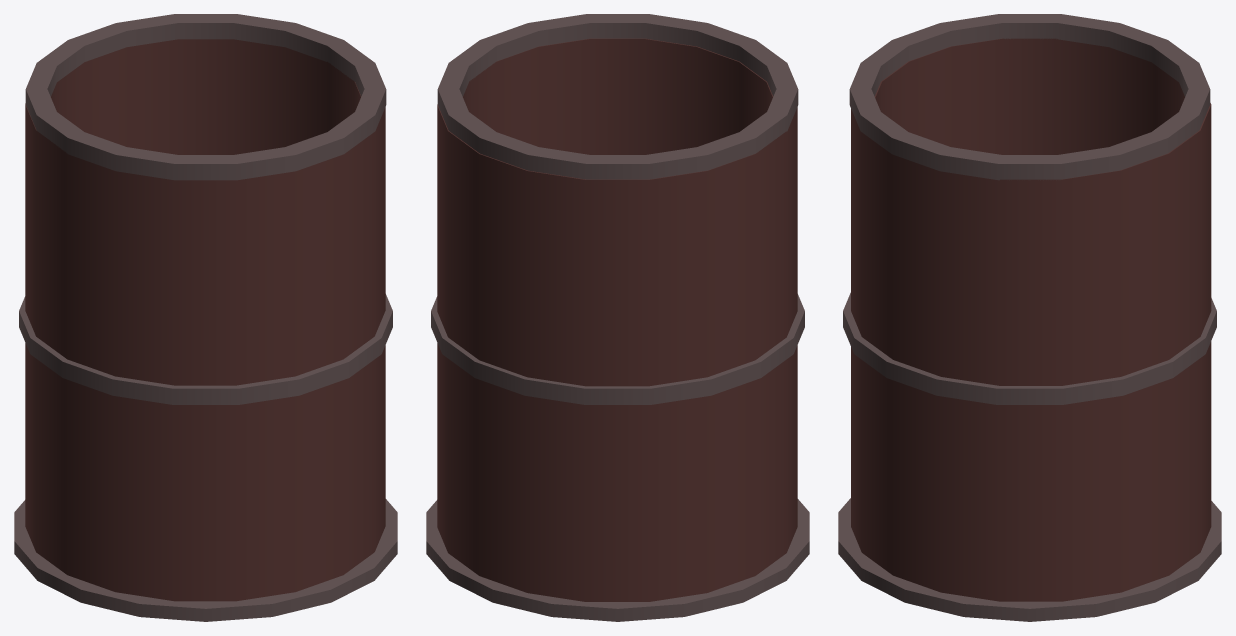
The model's file is FactoryBarrelBigger.FBX.
The picture shows the model from 3 angles, left to right: view 1: azimuth 30°, elevation 25°; view 2: azimuth 150°, elevation 25°; view 3: azimuth 270°, elevation 25°; orthographic projection.
Visible parts, largest first — view 1: Tube001, Tube004, Cylinder001, Tube003; view 2: Tube001, Tube004, Cylinder001, Tube003; view 3: Tube001, Tube004, Cylinder001, Tube003.
Boxes of the visible parts, x1,y1,x2,y2 form: Tube001: [25, 39, 385, 601]; Tube004: [25, 14, 386, 180]; Cylinder001: [14, 499, 397, 621]; Tube003: [19, 294, 392, 404]; Tube001: [437, 38, 797, 601]; Tube004: [437, 14, 798, 179]; Cylinder001: [426, 499, 809, 621]; Tube003: [431, 294, 804, 404]; Tube001: [851, 38, 1211, 601]; Tube004: [849, 14, 1210, 180]; Cylinder001: [838, 498, 1221, 621]; Tube003: [843, 292, 1216, 404].
Bounding box in the file's own units: 85.04 × 109 × 83.75.
